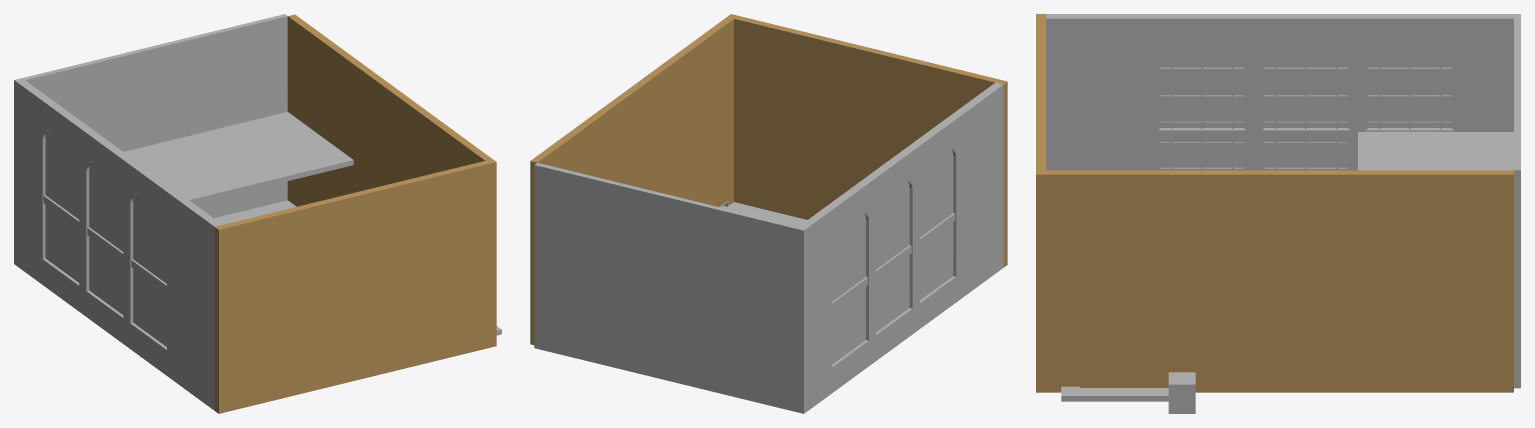
The model's file is room_layout_walls_v3.fbx.
3 renders of one model, left to right at view 1: azimuth 30°, elevation 25°; view 2: azimuth 150°, elevation 25°; view 3: azimuth 270°, elevation 25°, orthographic. The views are drawn at different scales.
Visible parts, largest first — view 1: Wall_S, Window_Wall, Wall_N, Wall_E_VentTest, Window, Floor_Loft, Window_Bars, Floor_base; view 2: Wall_N, Wall_S, Window_Wall, Wall_E_VentTest, Window, Window_Bars, Floor_base; view 3: Wall_E_VentTest, Window_Wall, Window, Window_Bars, Floor_Loft, Wall_S, Vent_T01, Wall_N.
Boxes of the visible parts, left/top/right/bottom form: Wall_S: left=214, top=159, right=496, bottom=413; Window_Wall: left=14, top=78, right=222, bottom=410; Wall_N: left=22, top=14, right=296, bottom=224; Wall_E_VentTest: left=287, top=14, right=491, bottom=206; Window: left=45, top=129, right=166, bottom=346; Floor_Loft: left=124, top=112, right=353, bottom=203; Window_Bars: left=43, top=128, right=166, bottom=339; Floor_base: left=214, top=200, right=295, bottom=223; Wall_N: left=534, top=163, right=806, bottom=411; Wall_S: left=727, top=14, right=1007, bottom=267; Window_Wall: left=796, top=82, right=1003, bottom=413; Wall_E_VentTest: left=530, top=17, right=733, bottom=344; Window: left=832, top=147, right=953, bottom=364; Window_Bars: left=832, top=147, right=955, bottom=363; Floor_base: left=727, top=203, right=806, bottom=226; Wall_E_VentTest: left=1046, top=170, right=1513, bottom=392; Window_Wall: left=1046, top=14, right=1520, bottom=170; Window: left=1160, top=40, right=1451, bottom=167; Window_Bars: left=1158, top=40, right=1453, bottom=170; Floor_Loft: left=1358, top=131, right=1513, bottom=170; Wall_S: left=1036, top=14, right=1045, bottom=392; Vent_T01: left=1061, top=372, right=1195, bottom=413; Wall_N: left=1514, top=18, right=1520, bottom=388.
Bounding box in the file's own units: 1149 × 645 × 1293.
